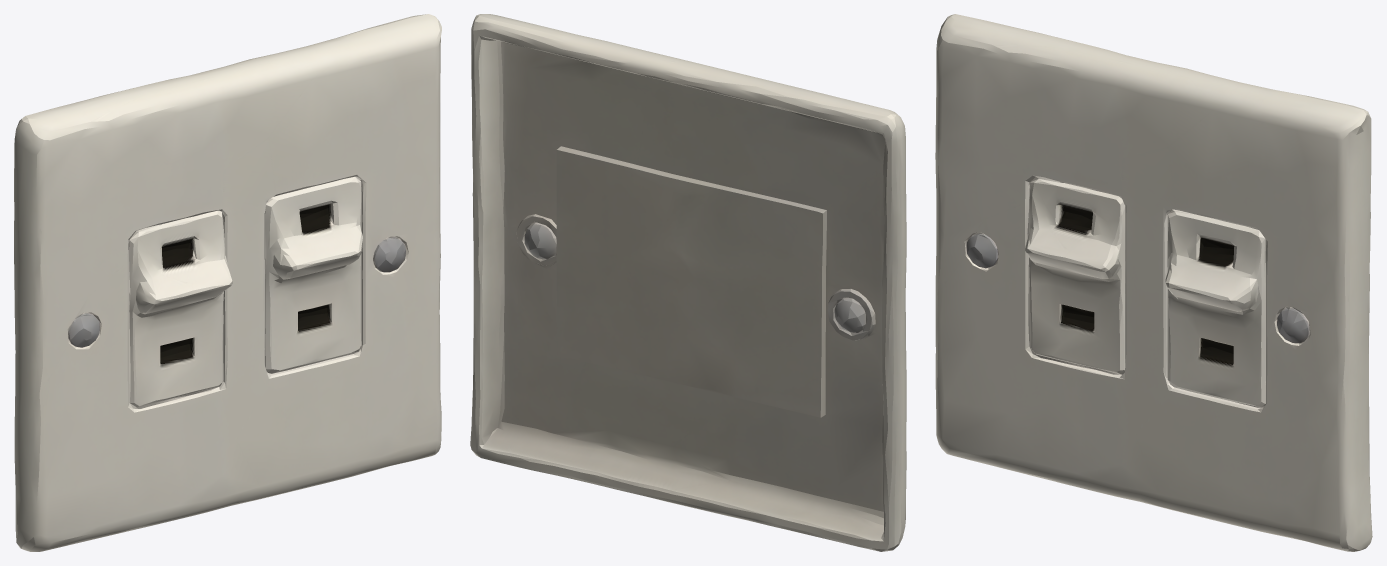
The model's file is socket.glb.
3 renders of one model, left to right at view 1: azimuth 30°, elevation 25°; view 2: azimuth 150°, elevation 25°; view 3: azimuth 330°, elevation 25°, orthographic.
Parts seen in each view (by area): view 1: model; view 2: model; view 3: model.
Boxes of the visible parts, x1,y1,x2,y2 form: model: [14, 14, 441, 551]; model: [470, 14, 906, 551]; model: [935, 14, 1372, 551].
Size of the model in its own units: 1.9 by 1.88 by 0.2856.
Materials: 1 (1 with a texture image).
